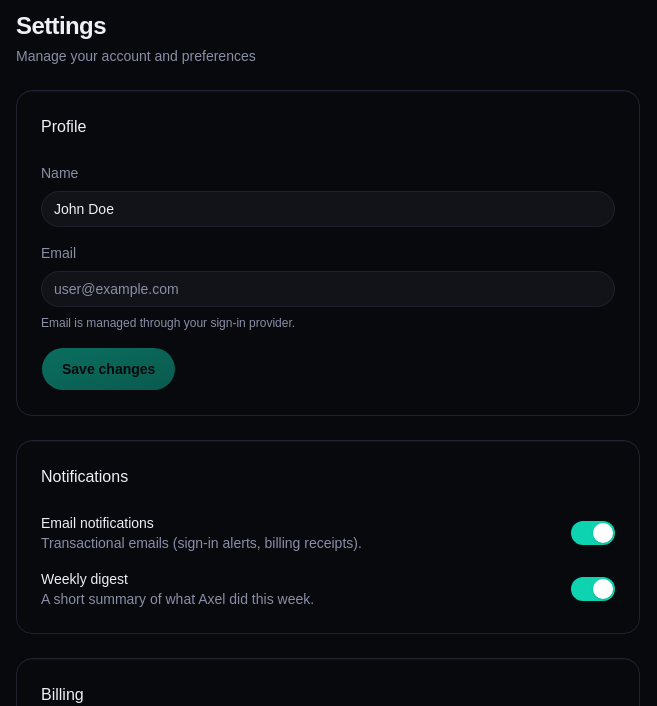
Test: Settings › profile section › clears stale save feedback as soon as the user keeps typing
Replace the text in the field labelled "Name" with "Ada" at x=328, y=209, box [41,191,615,227]
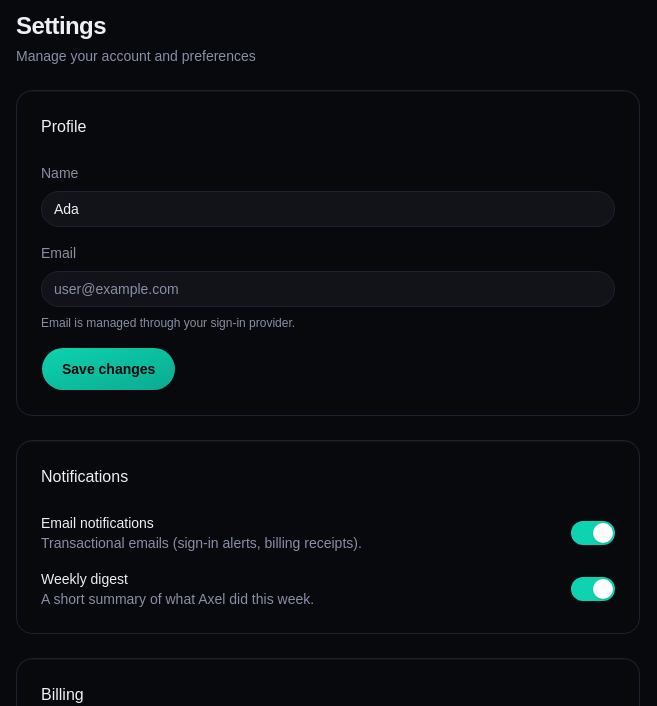
Click the button "Save changes".
click(109, 369)  # box [41,347,176,391]
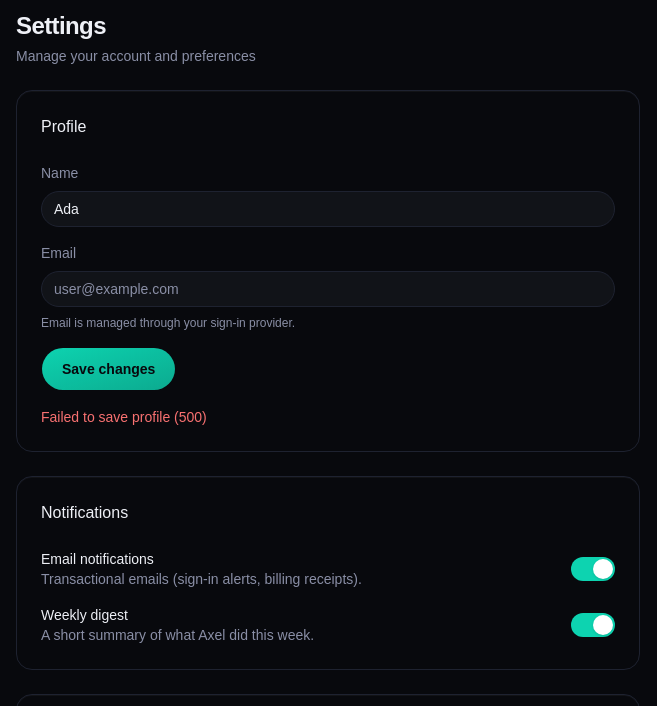
expect the text "Failed to save profile (500)" is shown: met, box [41,409,207,425]
Typing more characters clears the stale error message.
Replace the text in the field labelled "Name" with "Ada L" at x=328, y=209, box [41,191,615,227]
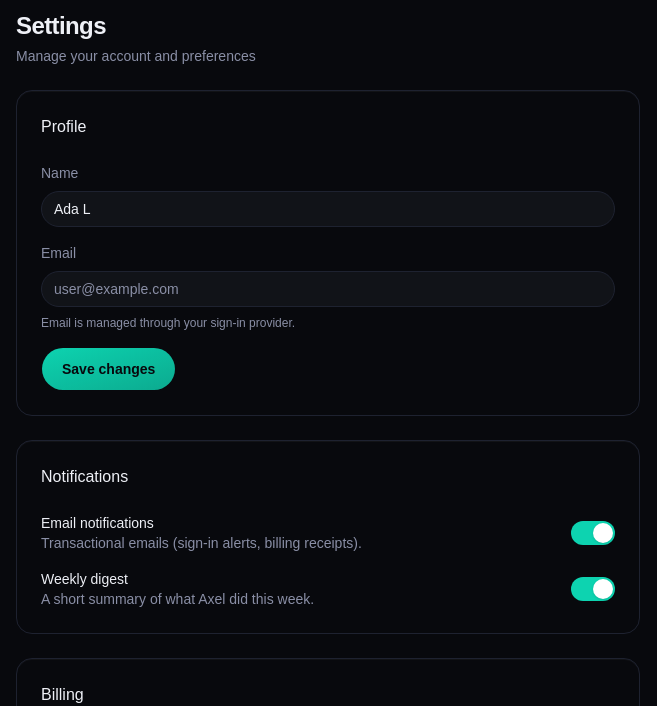
expect the text "Failed to save profile" is gone: met
